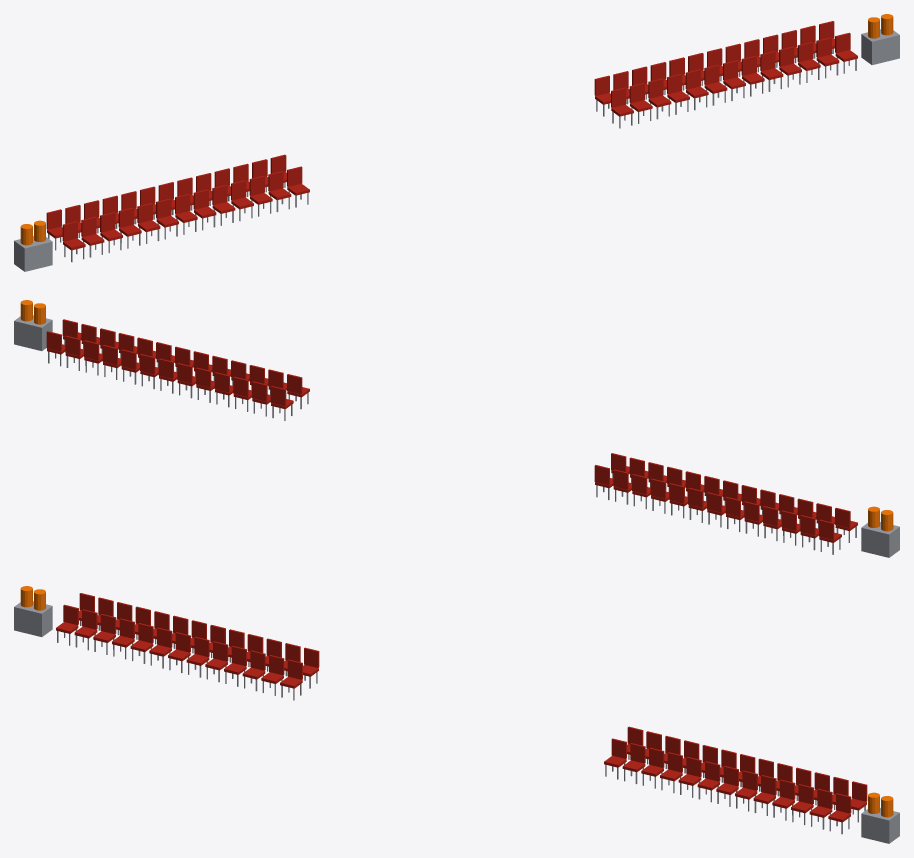
The model's file is SM_TeamBenches.fbx.
3 views of the same model, one above another, from view 1: azimuth 30°, elevation 25°; view 2: azimuth 150°, elevation 25°; view 3: azimuth 330°, elevation 25° (orthographic).
Visible parts, largest first — view 1: SM_TeamBenches; view 2: SM_TeamBenches; view 3: SM_TeamBenches.
Boxes of the visible parts, x1=… form: SM_TeamBenches: x1=14, y1=14, x2=899, y2=271; SM_TeamBenches: x1=14, y1=300, x2=899, y2=557; SM_TeamBenches: x1=14, y1=586, x2=899, y2=843.
Size of the model in its own units: 2810 by 122 by 138.
